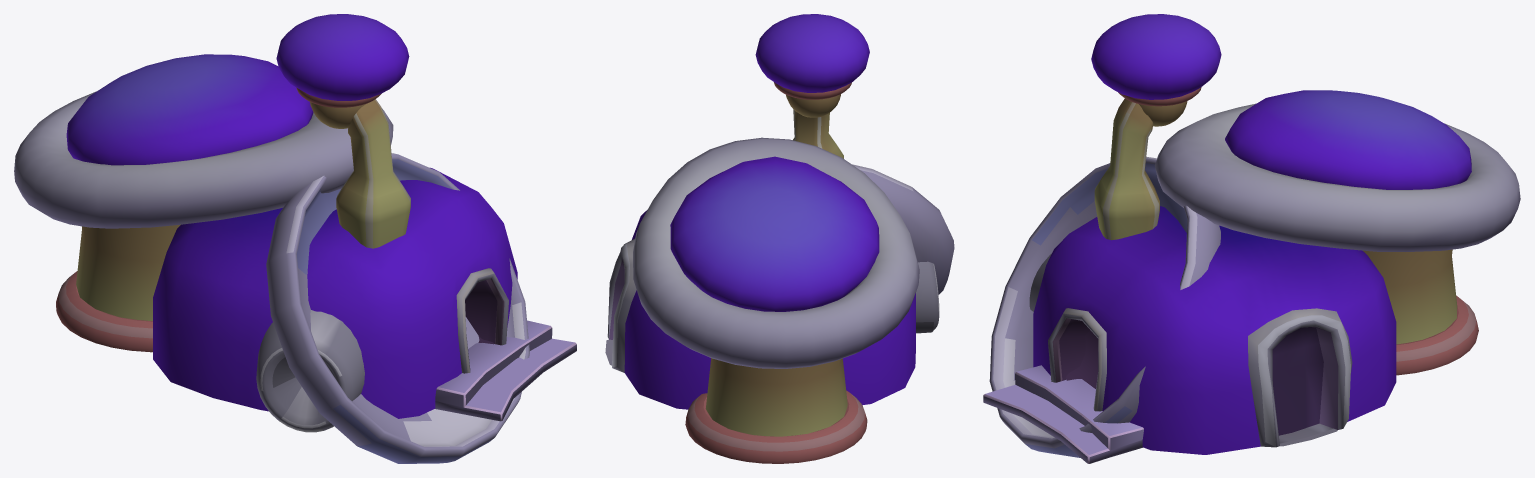
3 renders of one model, left to right at view 1: azimuth 30°, elevation 25°; view 2: azimuth 150°, elevation 25°; view 3: azimuth 270°, elevation 25°, orthographic. The views are drawn at different scales.
Visible parts, largest first — view 1: Base, Antenna; view 2: Base, Antenna; view 3: Base, Antenna.
Part boxes in pixels (<box>): Base: <box>14,14,576,432</box>; Antenna: <box>266,153,529,463</box>; Base: <box>605,14,939,463</box>; Antenna: <box>852,164,954,294</box>; Base: <box>983,14,1520,463</box>; Antenna: <box>989,156,1220,457</box>.
Size of the model in its own units: 284 by 270 by 333.
